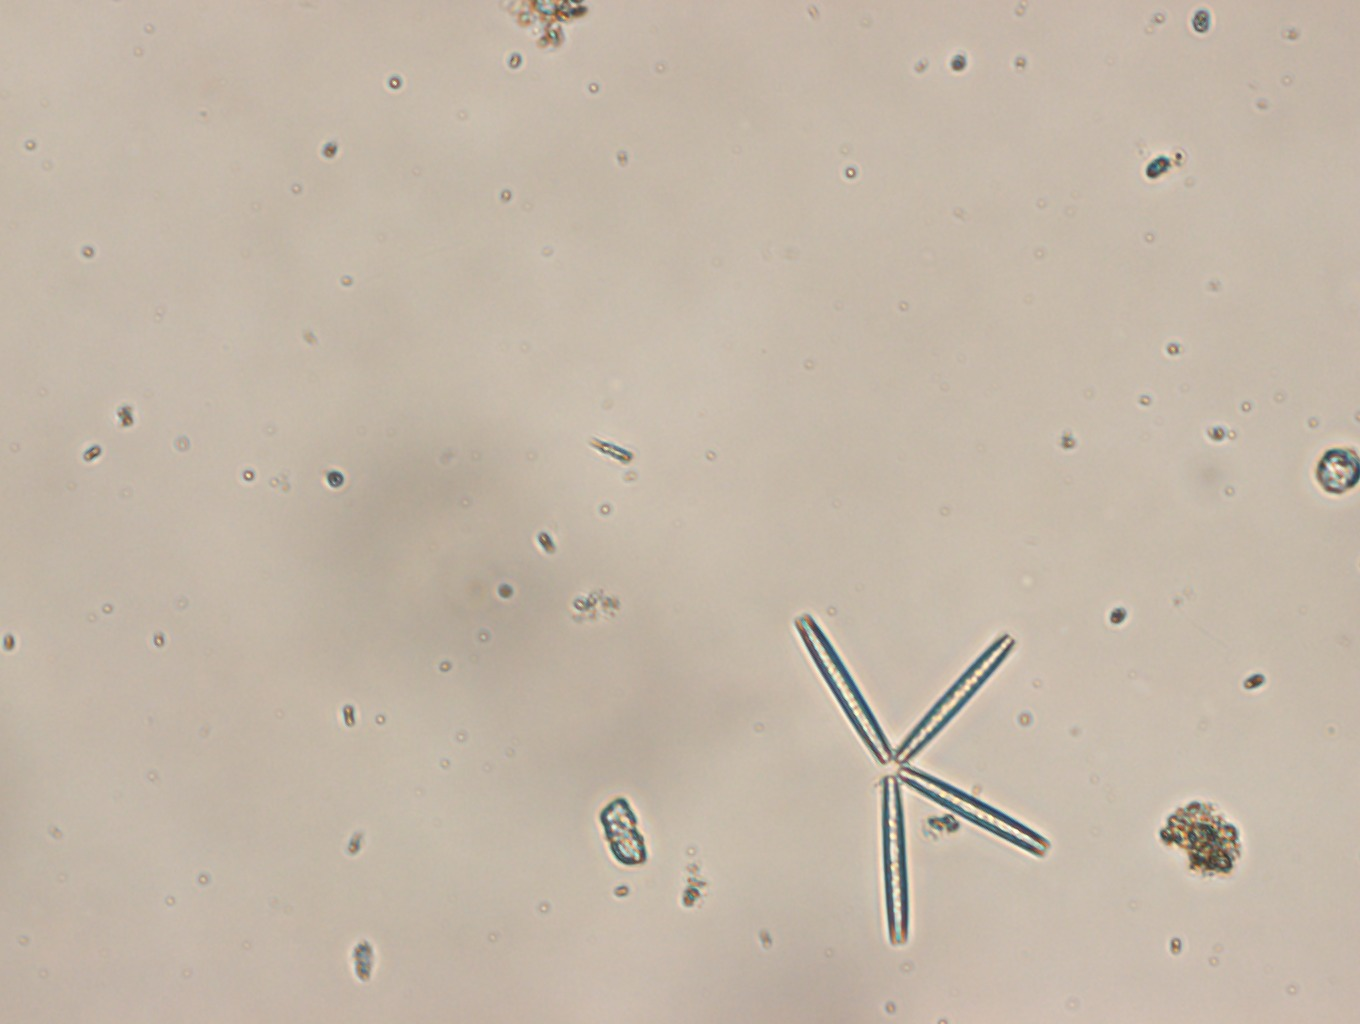thalassionema nitzschioides: (791, 614, 1049, 944)
